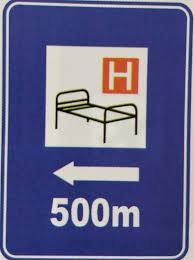Hospital: (30, 17, 169, 246)
